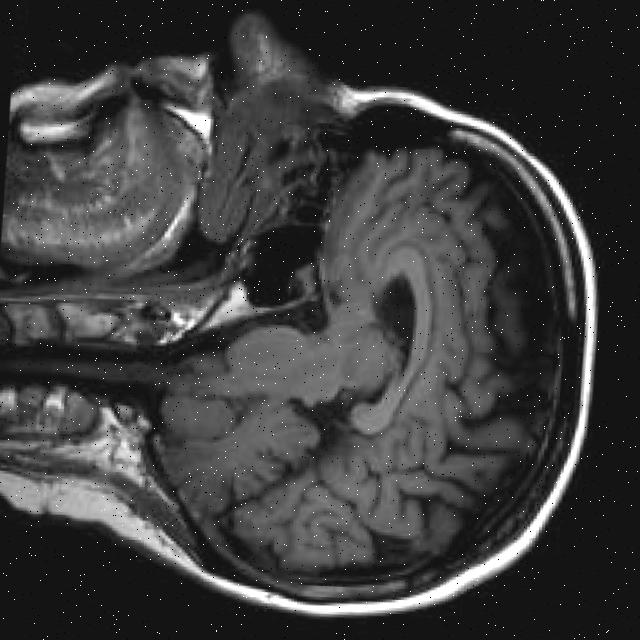NoTumor: (141, 72, 614, 633)
